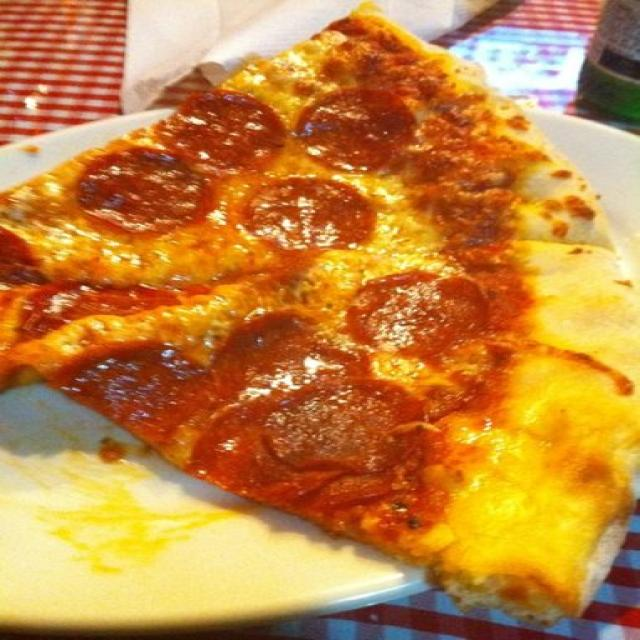Pepperoni: (71, 349, 211, 430), (350, 271, 488, 353), (283, 389, 414, 466), (86, 152, 214, 224), (233, 313, 330, 395), (304, 91, 408, 165), (255, 182, 368, 249), (179, 99, 285, 167), (0, 239, 40, 286)
Pizza: (0, 0, 640, 625)
